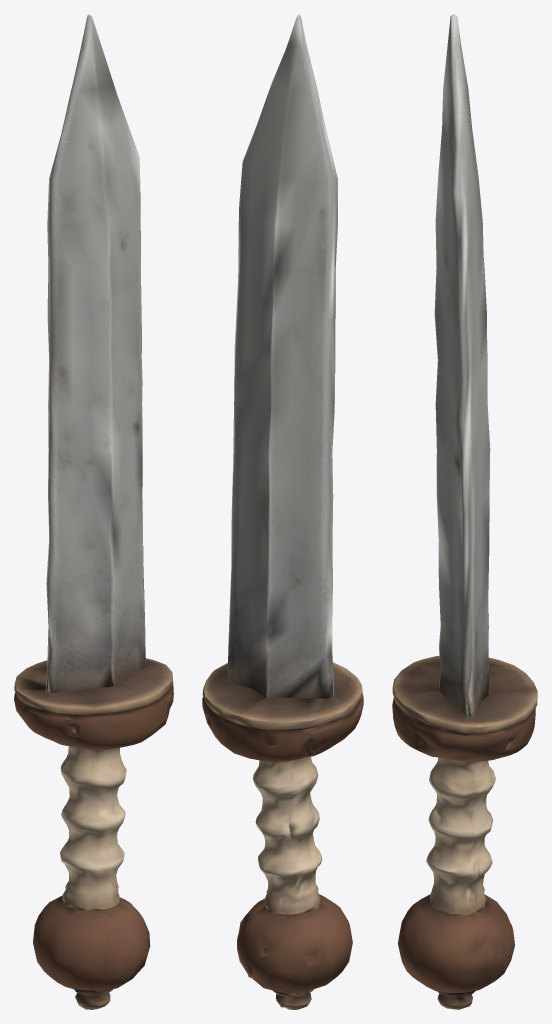
File: sword.glb
The picture shows the model from 3 angles, left to right: view 1: azimuth 30°, elevation 25°; view 2: azimuth 150°, elevation 25°; view 3: azimuth 270°, elevation 25°; orthographic projection.
Visible parts, largest first — view 1: weapon; view 2: weapon; view 3: weapon.
Part boxes in pixels (x1,y1,x2,y2): weapon: (14, 14, 173, 1009); weapon: (202, 14, 363, 1009); weapon: (392, 14, 537, 1009).
Size of the model in its own units: 0.1516 by 1 by 0.133.
1 material, 1 textured.
